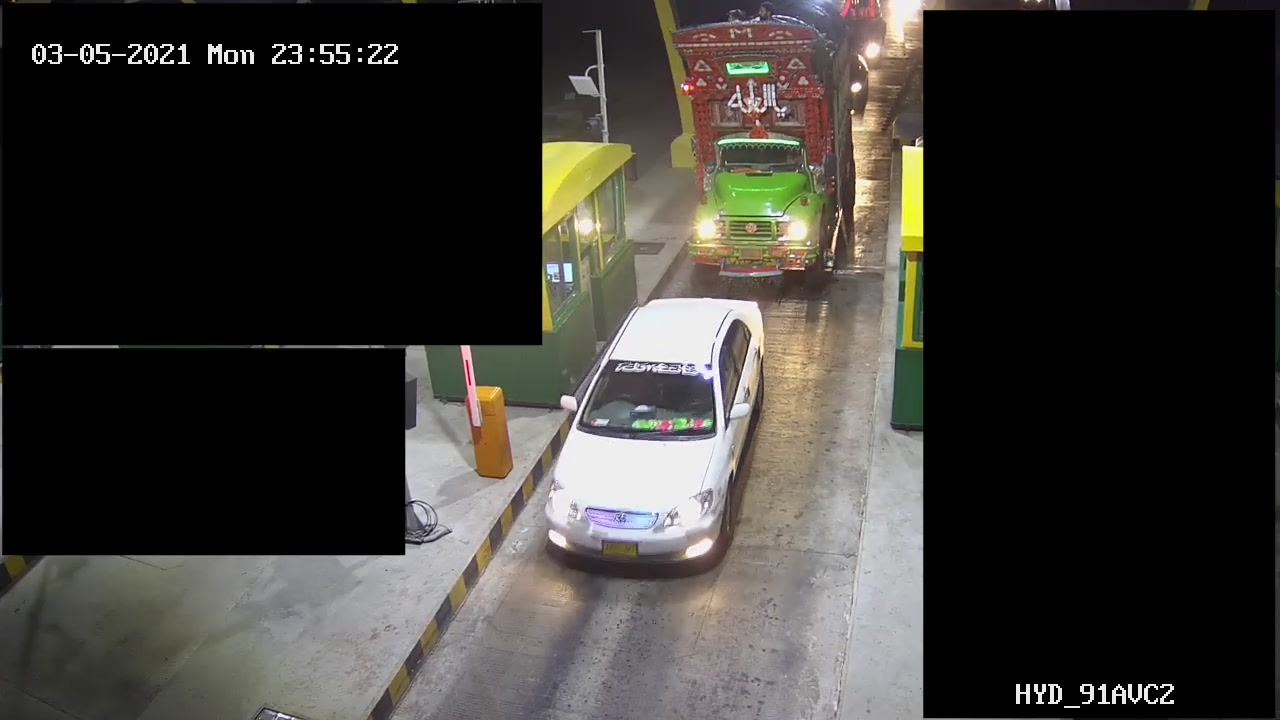F1: (533, 290, 777, 587)
